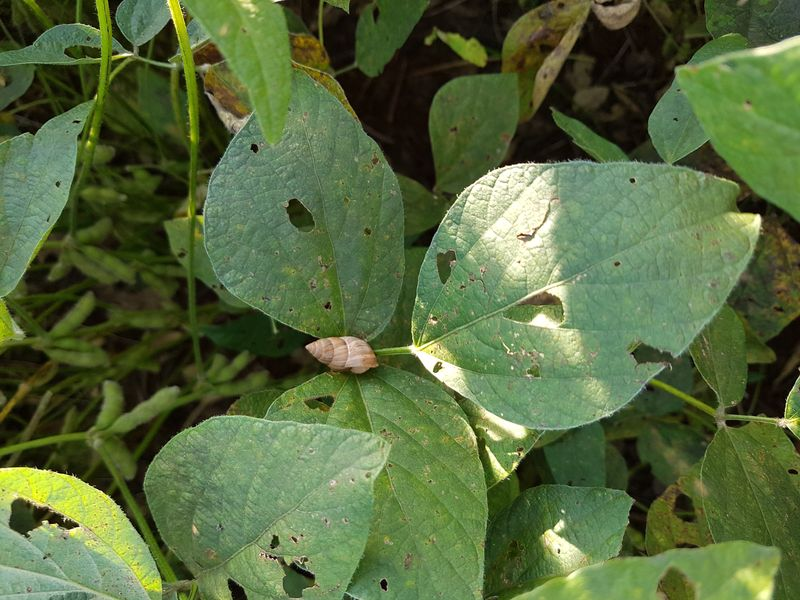Gastropoda: (298, 323, 386, 394)
